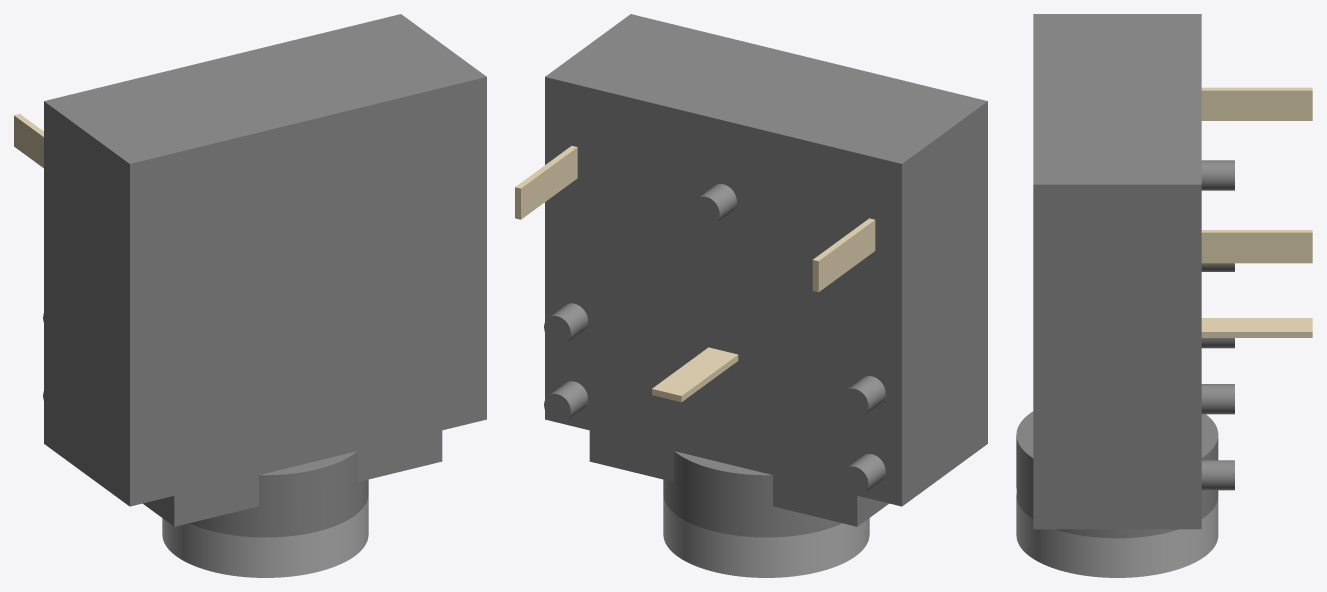
The model's file is Jack_3.5mm_CUI_SJ1-3523N_Horizontal.glb.
3 views of the same model, side by side, from view 1: azimuth 30°, elevation 25°; view 2: azimuth 150°, elevation 25°; view 3: azimuth 270°, elevation 25° (orthographic). The views are drawn at different scales.
Parts seen in each view (by area): view 1: Shape_IndexedFaceSet.002, Shape_IndexedFaceSet.003, Shape_IndexedFaceSet, Shape_IndexedFaceSet.043, Shape_IndexedFaceSet.033, Shape_IndexedFaceSet.010, Shape_IndexedFaceSet.008, Shape_IndexedFaceSet.022, Shape_IndexedFaceSet.009; view 2: Shape_IndexedFaceSet.004, Shape_IndexedFaceSet.003, Shape_IndexedFaceSet, Shape_IndexedFaceSet.043, Shape_IndexedFaceSet.033, Shape_IndexedFaceSet.011, Shape_IndexedFaceSet.013, Shape_IndexedFaceSet.022, Shape_IndexedFaceSet.027, Shape_IndexedFaceSet.020, Shape_IndexedFaceSet.015, Shape_IndexedFaceSet.016 (+9 smaller); view 3: Shape_IndexedFaceSet.006, Shape_IndexedFaceSet.003, Shape_IndexedFaceSet.043, Shape_IndexedFaceSet.029, Shape_IndexedFaceSet.024, Shape_IndexedFaceSet.033, Shape_IndexedFaceSet.032, Shape_IndexedFaceSet.020, Shape_IndexedFaceSet.026, Shape_IndexedFaceSet.016, Shape_IndexedFaceSet.021, Shape_IndexedFaceSet.019 (+3 smaller).
Part boxes in pixels (bbox=[...]): Shape_IndexedFaceSet.002: bbox=[130, 77, 486, 506]; Shape_IndexedFaceSet.003: bbox=[44, 14, 486, 163]; Shape_IndexedFaceSet: bbox=[44, 101, 129, 506]; Shape_IndexedFaceSet.043: bbox=[162, 495, 368, 577]; Shape_IndexedFaceSet.033: bbox=[189, 451, 368, 537]; Shape_IndexedFaceSet.010: bbox=[357, 430, 442, 481]; Shape_IndexedFaceSet.008: bbox=[174, 475, 258, 526]; Shape_IndexedFaceSet.022: bbox=[14, 115, 43, 167]; Shape_IndexedFaceSet.009: bbox=[260, 451, 357, 475]; Shape_IndexedFaceSet.004: bbox=[545, 77, 901, 506]; Shape_IndexedFaceSet.003: bbox=[545, 14, 987, 163]; Shape_IndexedFaceSet: bbox=[902, 101, 987, 506]; Shape_IndexedFaceSet.043: bbox=[663, 496, 869, 577]; Shape_IndexedFaceSet.033: bbox=[663, 451, 841, 537]; Shape_IndexedFaceSet.011: bbox=[773, 475, 857, 526]; Shape_IndexedFaceSet.013: bbox=[589, 430, 673, 481]; Shape_IndexedFaceSet.022: bbox=[818, 220, 875, 291]; Shape_IndexedFaceSet.027: bbox=[521, 147, 577, 219]; Shape_IndexedFaceSet.020: bbox=[652, 347, 737, 395]; Shape_IndexedFaceSet.015: bbox=[847, 376, 885, 414]; Shape_IndexedFaceSet.016: bbox=[550, 381, 587, 419]; Shape_IndexedFaceSet.006: bbox=[1033, 184, 1201, 519]; Shape_IndexedFaceSet.003: bbox=[1033, 14, 1201, 184]; Shape_IndexedFaceSet.043: bbox=[1016, 495, 1218, 577]; Shape_IndexedFaceSet.029: bbox=[1201, 232, 1312, 263]; Shape_IndexedFaceSet.024: bbox=[1201, 90, 1312, 120]; Shape_IndexedFaceSet.033: bbox=[1016, 435, 1218, 538]; Shape_IndexedFaceSet.032: bbox=[1033, 520, 1201, 529]; Shape_IndexedFaceSet.020: bbox=[1201, 318, 1312, 331]; Shape_IndexedFaceSet.026: bbox=[1201, 160, 1234, 190]; Shape_IndexedFaceSet.016: bbox=[1201, 460, 1234, 490]; Shape_IndexedFaceSet.021: bbox=[1201, 384, 1234, 414]; Shape_IndexedFaceSet.019: bbox=[1201, 332, 1312, 337].
Size of the model in its own units: 4.72 by 5.63 by 3.46.
